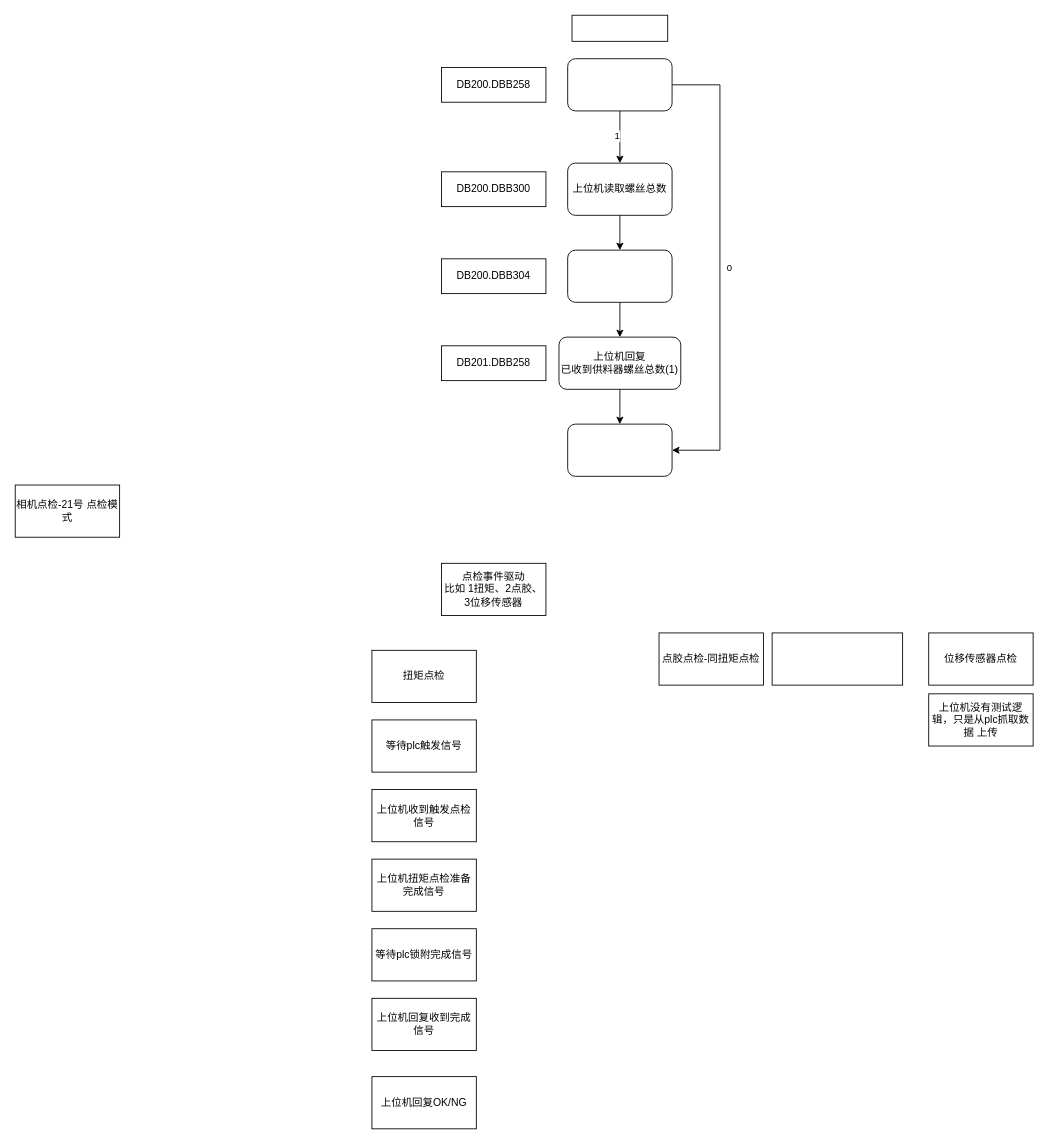
The diagram is 1048 pixels wide and 1144 high, and some of its shapes have lost their labels. Here are the shapes that lost their labels. From the top down, the centre of each, then its label:
the point at 619,27: 废钉盒逻辑
the point at 619,84: PLC发送供料器螺丝总数0/1
the point at 619,275: 上位机读取废钉总数
the point at 619,449: 结束
the point at 837,658: 上位机 记录每滴多少mg PLC发送有多少滴 然后上位机计算是否OK
